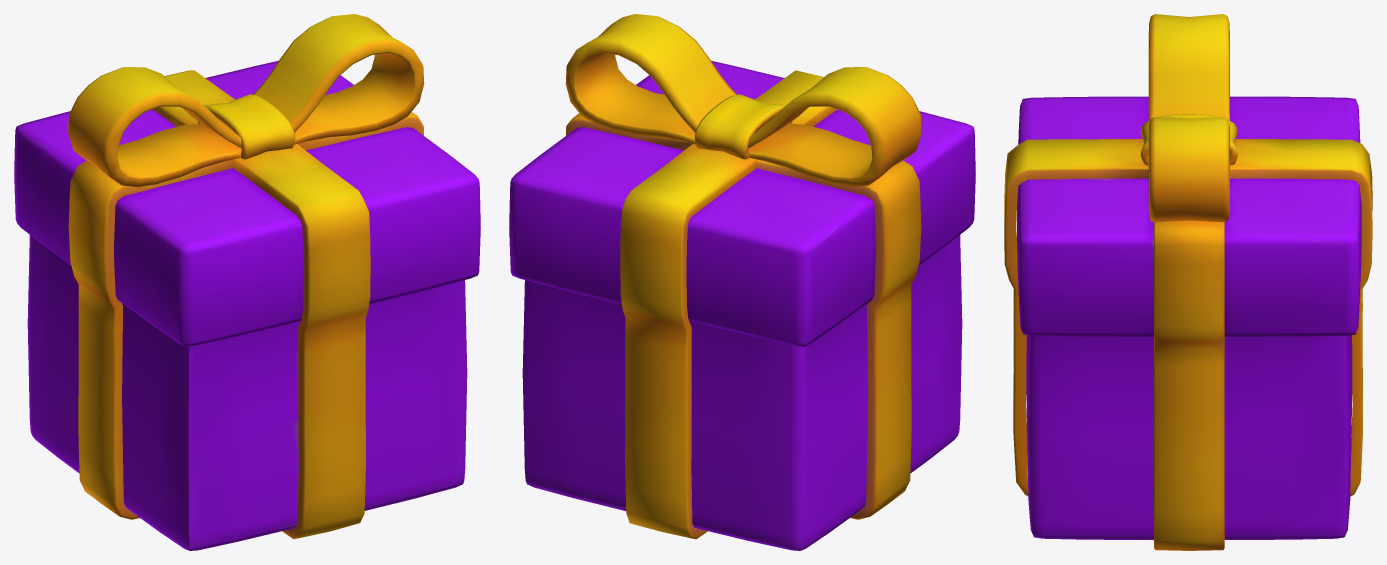
The model's file is LiWuHe2.FBX.
3 renders of one model, left to right at view 1: azimuth 30°, elevation 25°; view 2: azimuth 150°, elevation 25°; view 3: azimuth 270°, elevation 25°, orthographic.
Parts seen in each view (by area): view 1: LiWuHe; view 2: LiWuHe; view 3: LiWuHe.
Part boxes in pixels (box(x1,y1,x2,y2)): LiWuHe: box(14, 14, 480, 550); LiWuHe: box(509, 14, 975, 550); LiWuHe: box(1004, 14, 1372, 550).
Bounding box in the file's own units: 76.47 × 96.31 × 77.02.
